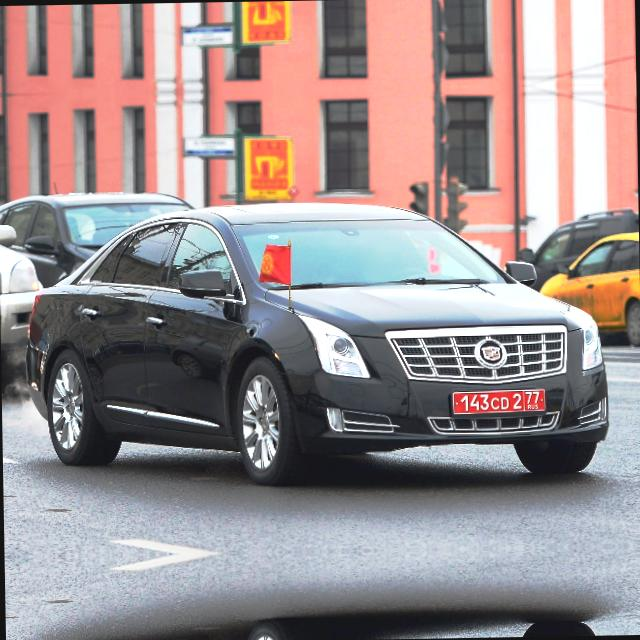diplomatic: (445, 384, 550, 416)
